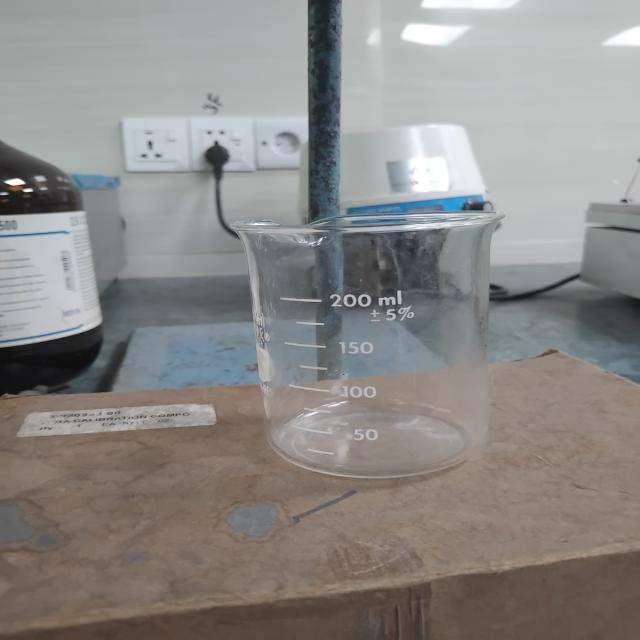Beaker: (204, 164, 542, 504)
